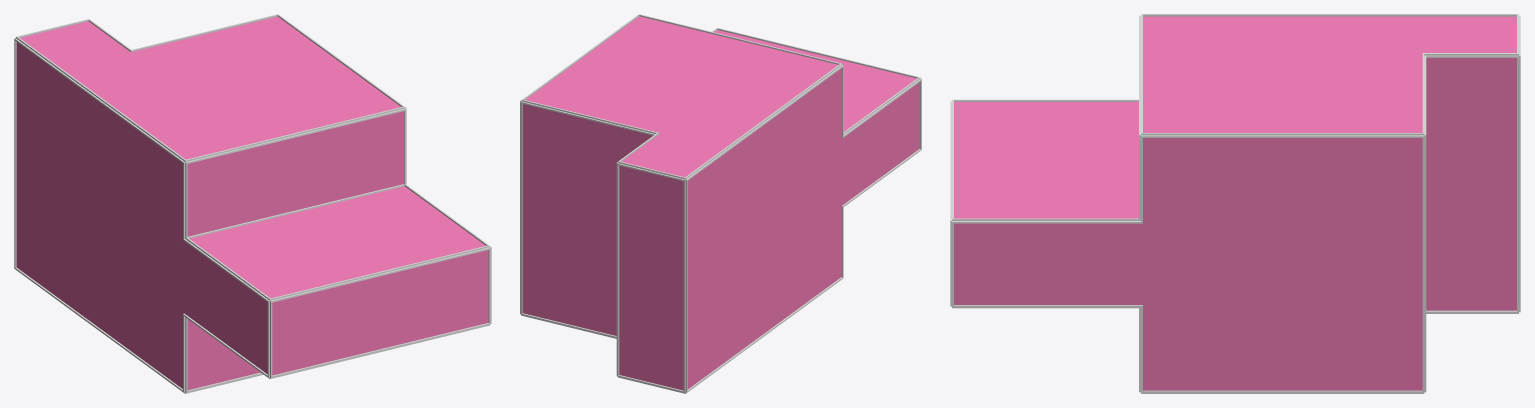
File: PecaE.glb
3 renders of one model, left to right at view 1: azimuth 30°, elevation 25°; view 2: azimuth 150°, elevation 25°; view 3: azimuth 270°, elevation 25°, orthographic. The views are drawn at different scales.
Parts seen in each view (by area): view 1: Sólido1; view 2: Sólido1; view 3: Sólido1.
Boxes of the visible parts, left/top/right/bottom form: Sólido1: left=14, top=14, right=491, bottom=393; Sólido1: left=520, top=14, right=921, bottom=393; Sólido1: left=950, top=14, right=1520, bottom=393.
Bounding box in the file's own units: 0.0152 × 0.0152 × 0.0302.
